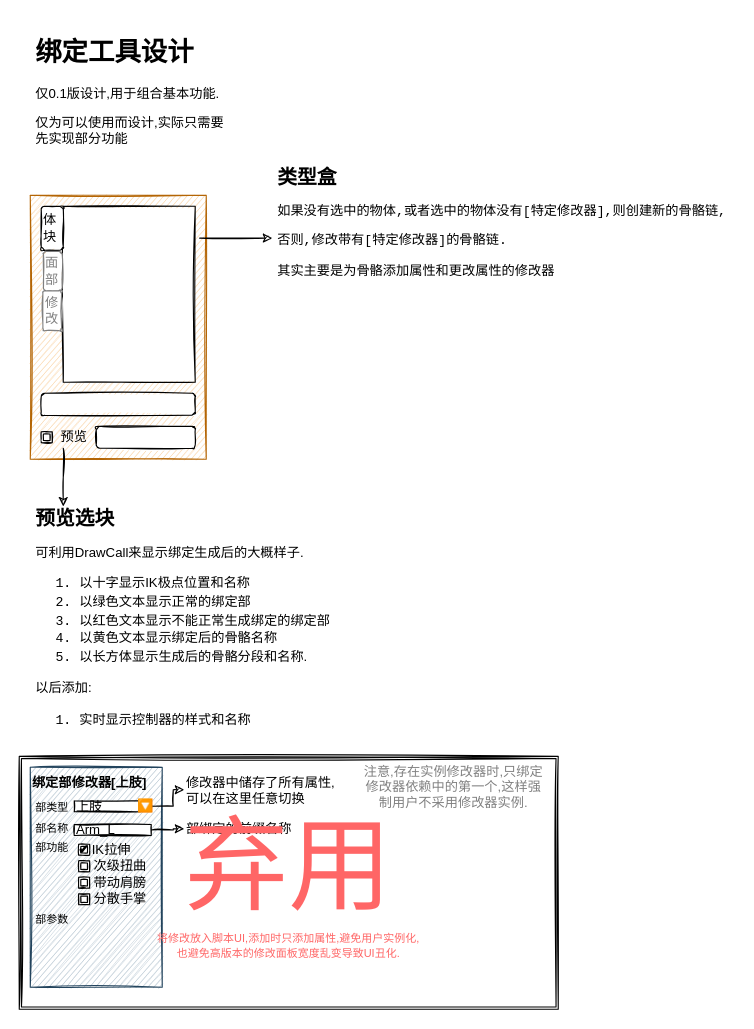
Image size: 754x1029. Some labels were removed from this diagram. Here are the shapes that lost their labels. From the top down, the centre of each, then its label:
At (128,293): "上肢 下肢 脊柱 头颈 链条 节点".
At (117,403): "绑定名: xxxx".
At (145,436): "生成绑定".
